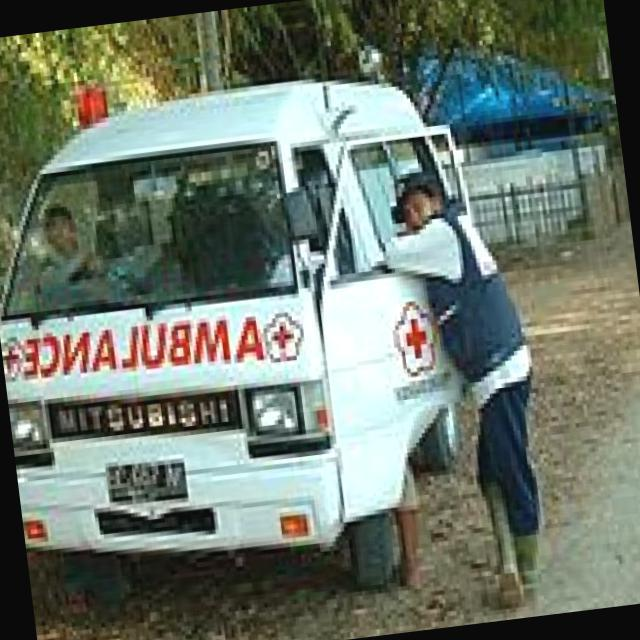emergency-vehicle: (0, 18, 521, 640)
